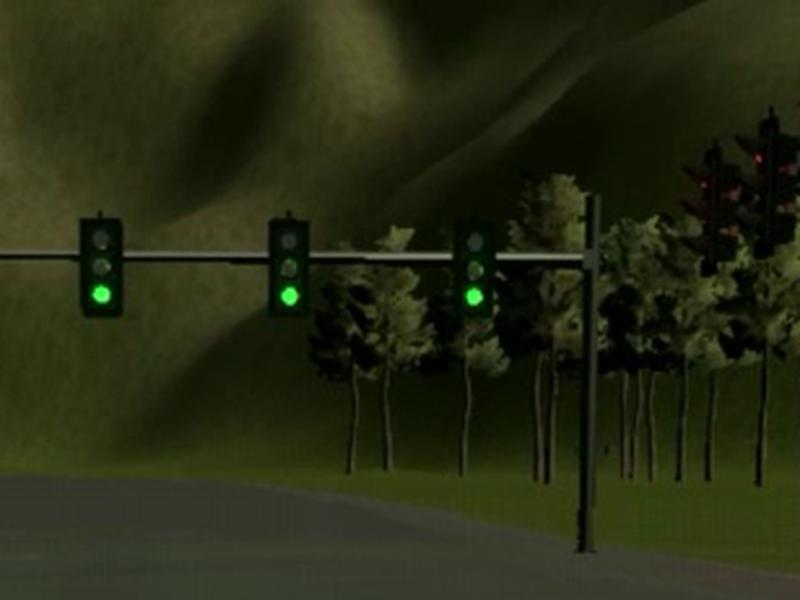Green: (79, 217, 124, 318), (268, 218, 310, 317), (455, 221, 493, 317)
